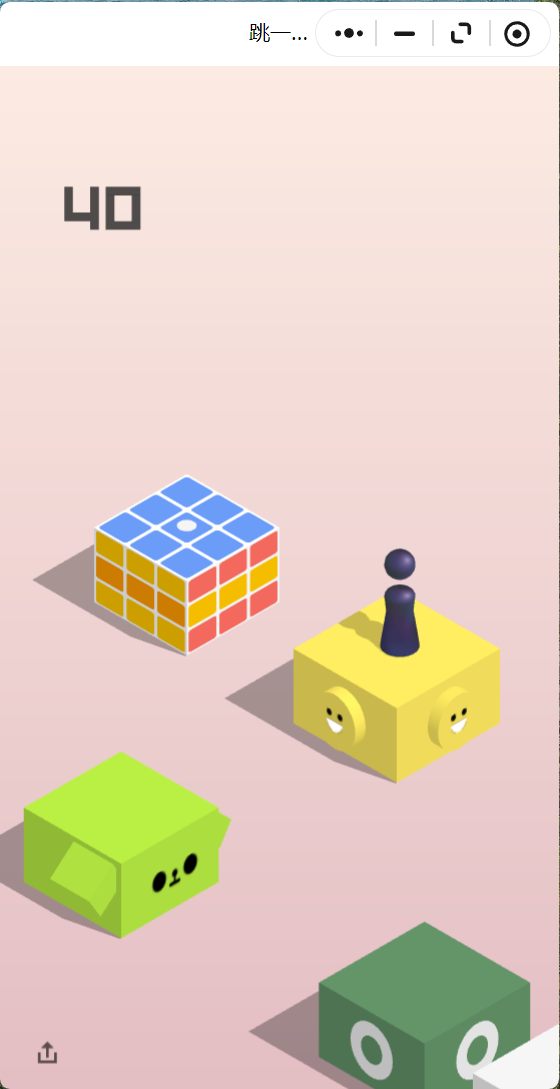piece: (385, 549, 416, 652)
target: (96, 474, 279, 580)
